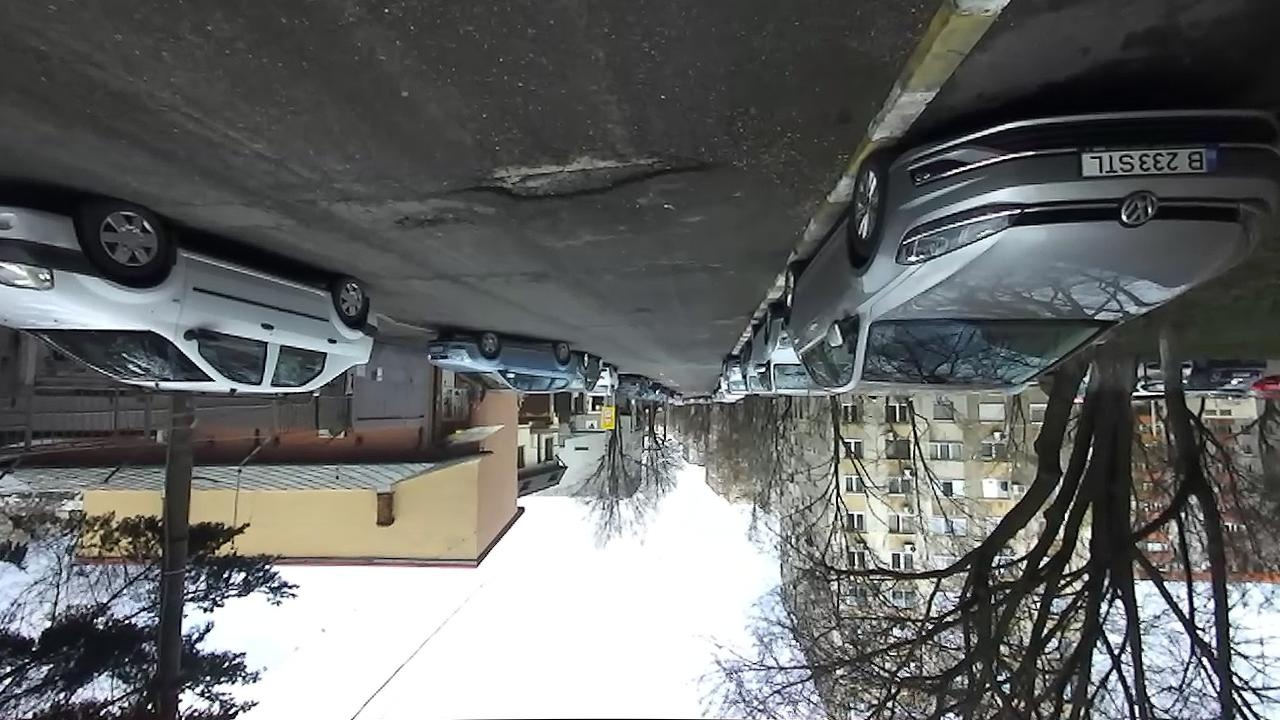pothole: (434, 144, 723, 206), (387, 213, 467, 236)
